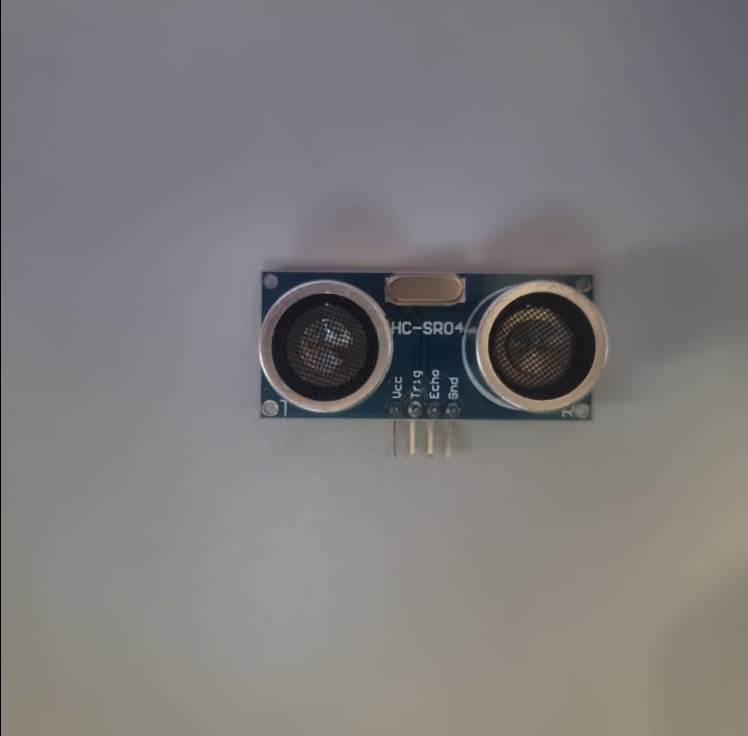SENSOR: (254, 269, 609, 429)
